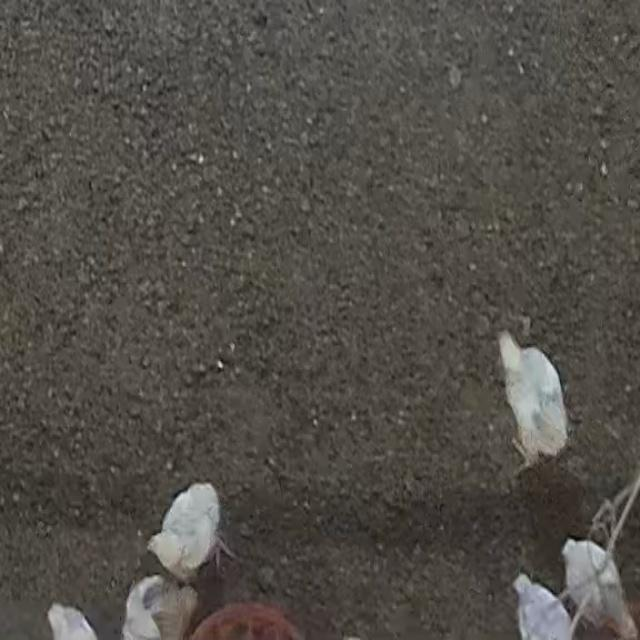chicken: (494, 327, 574, 475), (142, 479, 236, 583)
